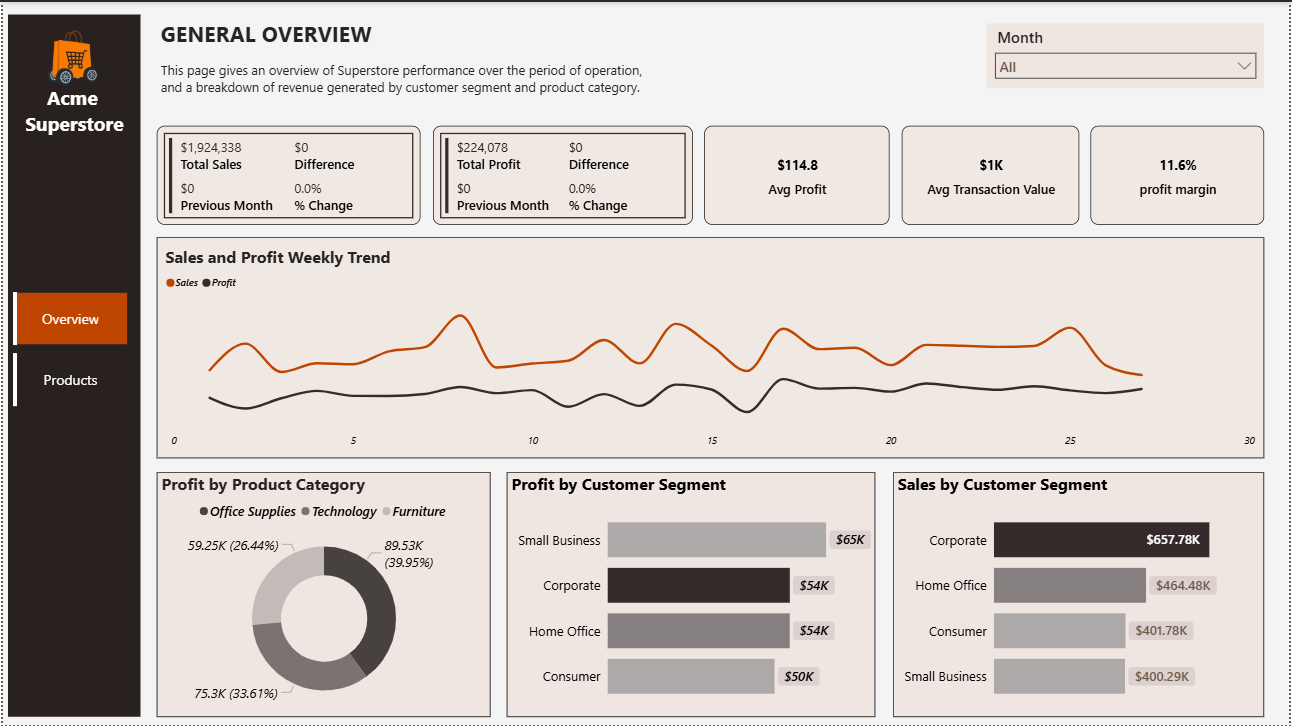

This screenshot's page, from the dashboard's own definition file:
{"tool":"powerbi","page":{"name":"Overview","canvas":[2700,1500],"ordinal":0},"visuals":[{"type":"shape","box":[5.7,7.8,214.2,1492.8],"z":0,"group":"g1"},{"type":"areaChart","title":"Sales and Profit Monthly Trend","fields":{"Category":["Date Table.Month Name"],"Y":["Sum(Orders.Sales)","Sum(Orders.Profit)"]},"box":[230.7,388.7,2451.6,526.1],"z":0},{"type":"image","box":[53.9,10.4,137.4,178.8],"z":1000,"group":"g1"},{"type":"cardVisual","title":"Sales","fields":{"Data":["Avg(Orders.Sales)"]},"box":[1742.8,184,430.2,178.8],"z":1000},{"type":"textbox","box":[4.7,171.7,225.5,220.3],"z":2000,"group":"g1"},{"type":"cardVisual","title":"Profit","fields":{"Data":["Avg(Orders.Profit)"]},"box":[1238.8,184,430.2,178.8],"z":2000},{"type":"textbox","box":[230.7,0,984.8,184],"z":3000},{"type":"pageNavigator","box":[14,598.7,190.3,244.4],"z":3000,"group":"g1"},{"type":"clusteredBarChart","title":"Profit/Sales by Product Category","fields":{"Category":["Orders.Product Category"],"Y":["measures_.total_profit","measures_.total_sales"]},"box":[230.7,943.3,1213.6,537],"z":3000,"group":"g3"},{"type":"slicer","fields":{"Values":["Date Table.Month Name"]},"box":[2394.6,28.5,282.5,101.1],"z":4000},{"type":"cardVisual","title":"Profit","fields":{"Data":["measures_.profit margin"]},"box":[2246.9,184,430.2,178.8],"z":5000},{"type":"group","id":"g1","title":"Group 1","box":[4.7,7.8,225.5,1492.8],"z":6000},{"type":"group","id":"g2","title":"Group 2","box":[1472,943.3,1210.3,536.5],"z":7000},{"type":"group","id":"g3","title":"Group 3","box":[230.7,943.3,1210,536.5],"z":8000},{"type":"cardVisual","title":"Sales","fields":{"Data":["measures_.total_sales"]},"box":[230.7,184,430.2,178.8],"z":9000},{"type":"clusteredBarChart","title":"Profit/Sales by Customer Segment","fields":{"Category":["Orders.Customer Segment"],"Y":["measures_.total_profit","measures_.total_sales"]},"box":[1472,943.3,1210,536.5],"z":9000,"group":"g2"},{"type":"cardVisual","title":"Sales","fields":{"Data":["measures_.total_profit"]},"box":[734.7,184,430.2,178.8],"z":10000},{"type":"actionButton","box":[1391.5,945.3,49.8,50],"z":10000,"group":"g3"},{"type":"actionButton","box":[2625.8,948.6,52.2,50],"z":11000,"group":"g2"}]}

Visuals, with their boxes in screenshot pixels (x1, y1, x2, y2), scaled from the page's 2700x1500 canvas onto the 1292x727 screenshot:
shape: pyautogui.locateOnScreen(3, 4, 105, 726)
"Sales and Profit Monthly Trend" areaChart: pyautogui.locateOnScreen(110, 188, 1284, 443)
image: pyautogui.locateOnScreen(26, 5, 92, 92)
"Sales" cardVisual: pyautogui.locateOnScreen(834, 89, 1040, 176)
textbox: pyautogui.locateOnScreen(2, 83, 110, 190)
"Profit" cardVisual: pyautogui.locateOnScreen(593, 89, 799, 176)
textbox: pyautogui.locateOnScreen(110, 0, 582, 89)
pageNavigator: pyautogui.locateOnScreen(7, 290, 98, 409)
"Profit/Sales by Product Category" clusteredBarChart: pyautogui.locateOnScreen(110, 457, 691, 717)
slicer - Date Table.Month Name: pyautogui.locateOnScreen(1146, 14, 1281, 63)
"Profit" cardVisual: pyautogui.locateOnScreen(1075, 89, 1281, 176)
"Group 1" group: pyautogui.locateOnScreen(2, 4, 110, 726)
"Group 2" group: pyautogui.locateOnScreen(704, 457, 1284, 717)
"Group 3" group: pyautogui.locateOnScreen(110, 457, 689, 717)
"Sales" cardVisual: pyautogui.locateOnScreen(110, 89, 316, 176)
"Profit/Sales by Customer Segment" clusteredBarChart: pyautogui.locateOnScreen(704, 457, 1283, 717)
"Sales" cardVisual: pyautogui.locateOnScreen(352, 89, 557, 176)
actionButton: pyautogui.locateOnScreen(666, 458, 690, 482)
actionButton: pyautogui.locateOnScreen(1256, 460, 1281, 484)
